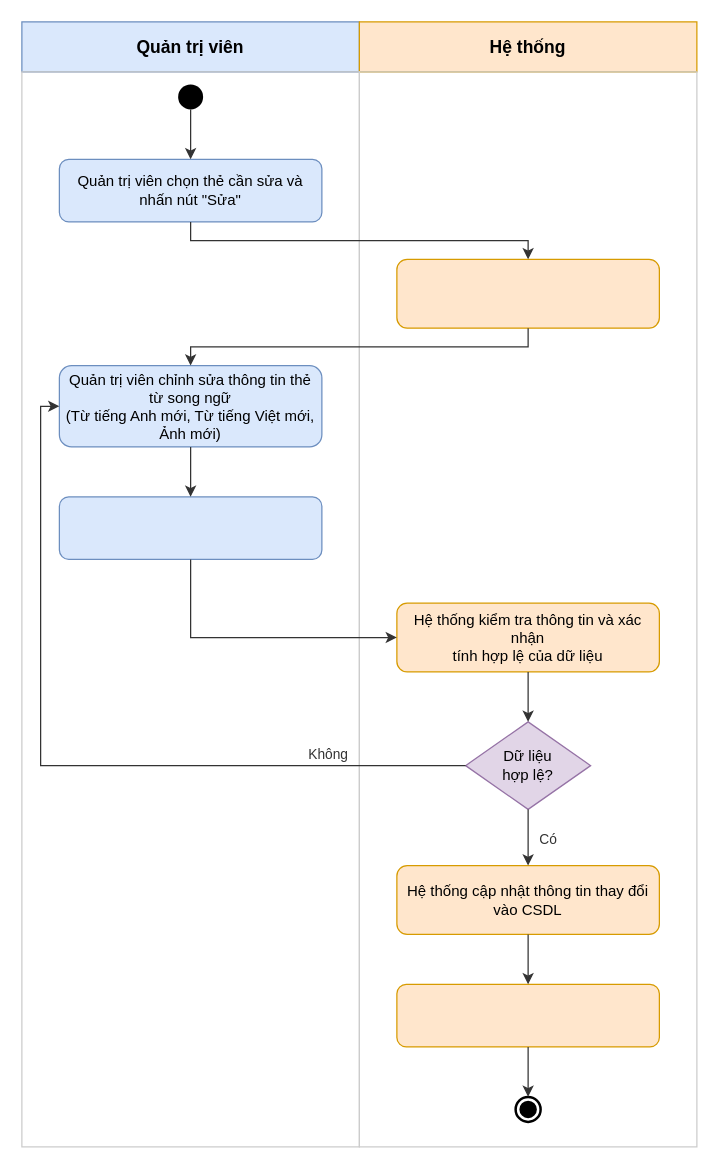
The diagram is 719 pixels wide and 1169 high, and some of its shapes have lost their labels. Each missing label, with the centre of its shape:
"Hệ thống hiển thị giao diện sửa thẻ kèm thông tin hiện tại" goes at (527,293).
"Hệ thống thông báo đã cập nhật thành công" goes at (527,1015).
"Quản trị viên nhấn nút Lưu" goes at (190,527).
